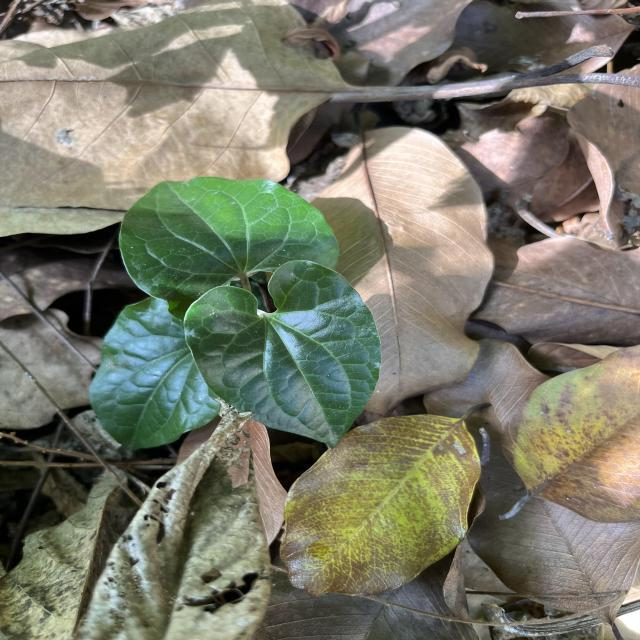Piper longum: (180, 258, 382, 450), (115, 174, 342, 306)
